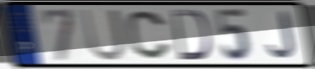5: (214, 7, 256, 63)
7: (38, 7, 77, 63)
C: (124, 9, 174, 61)
D: (170, 8, 213, 62)
J: (266, 10, 297, 60)
U: (79, 7, 128, 63)
